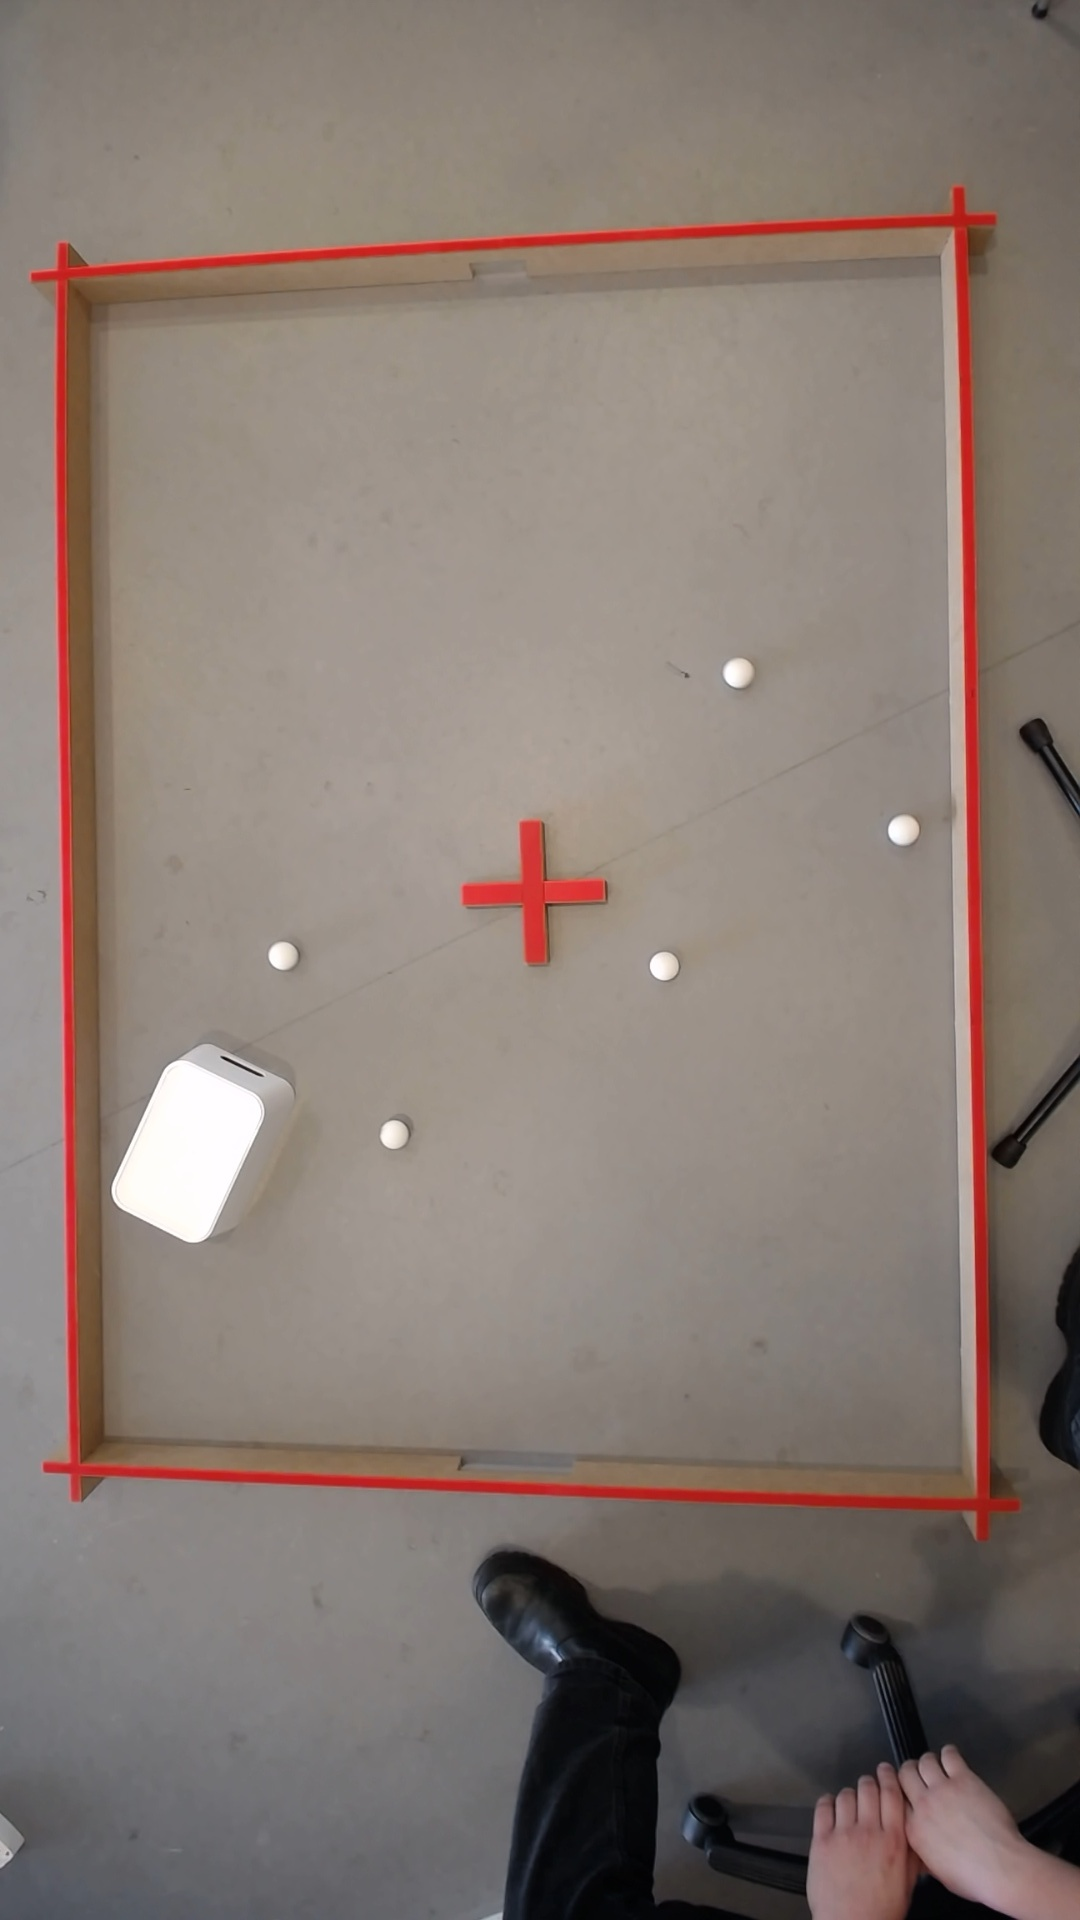balls: (100, 1051, 272, 1249), (882, 811, 916, 847), (644, 948, 678, 982), (719, 655, 750, 688), (268, 943, 290, 969)
car: (380, 1120, 401, 1147)
